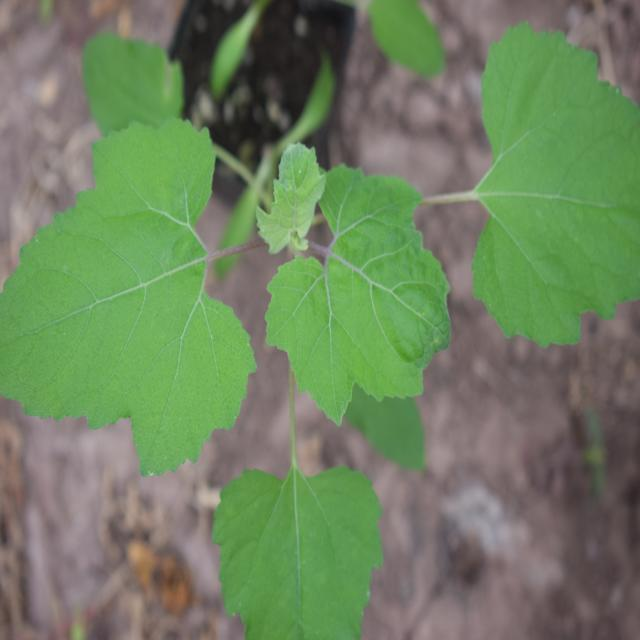cocklebur: (0, 18, 600, 584)
